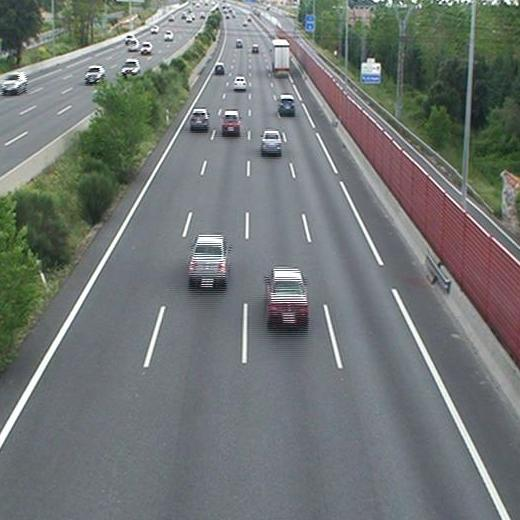car: (266, 269, 308, 324), (188, 236, 228, 288), (261, 130, 281, 153), (222, 111, 240, 133), (190, 110, 208, 129), (278, 95, 295, 115), (234, 77, 247, 89), (214, 63, 224, 73), (250, 44, 259, 54)
truck: (272, 40, 290, 76)
